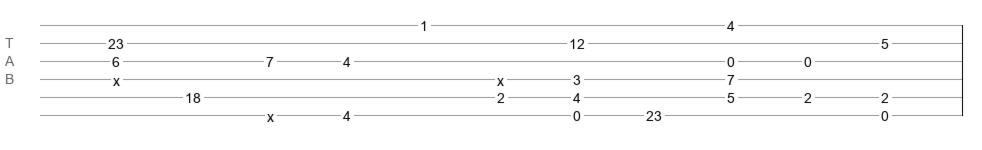0: (573, 108, 581, 118), (727, 54, 735, 64), (804, 54, 812, 64), (881, 108, 889, 118)
1: (420, 18, 428, 28)
12: (569, 36, 585, 46)
18: (185, 90, 201, 100)
2: (497, 90, 505, 100), (804, 90, 812, 100), (881, 90, 889, 100)
23: (108, 36, 124, 46), (646, 108, 662, 118)
3: (573, 72, 581, 82)
4: (343, 54, 351, 64), (343, 108, 351, 118), (573, 90, 581, 100), (727, 18, 735, 28)
5: (727, 90, 735, 100), (881, 36, 889, 46)
6: (112, 54, 120, 64)
7: (266, 54, 274, 64), (727, 72, 735, 82)
x: (113, 73, 120, 81), (267, 109, 274, 117), (497, 73, 504, 81)
